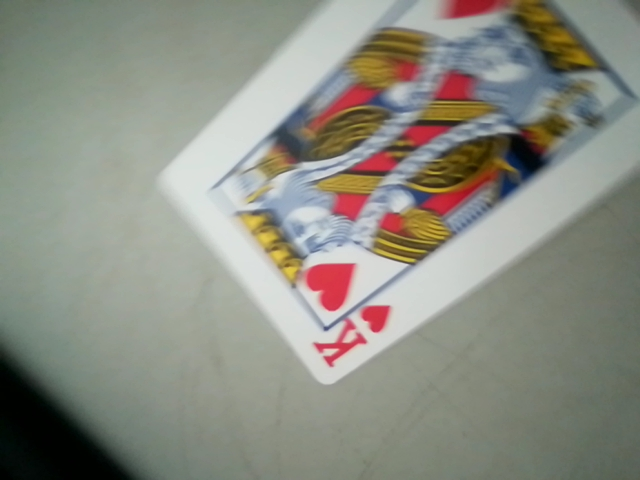hx k: (308, 302, 395, 378)
